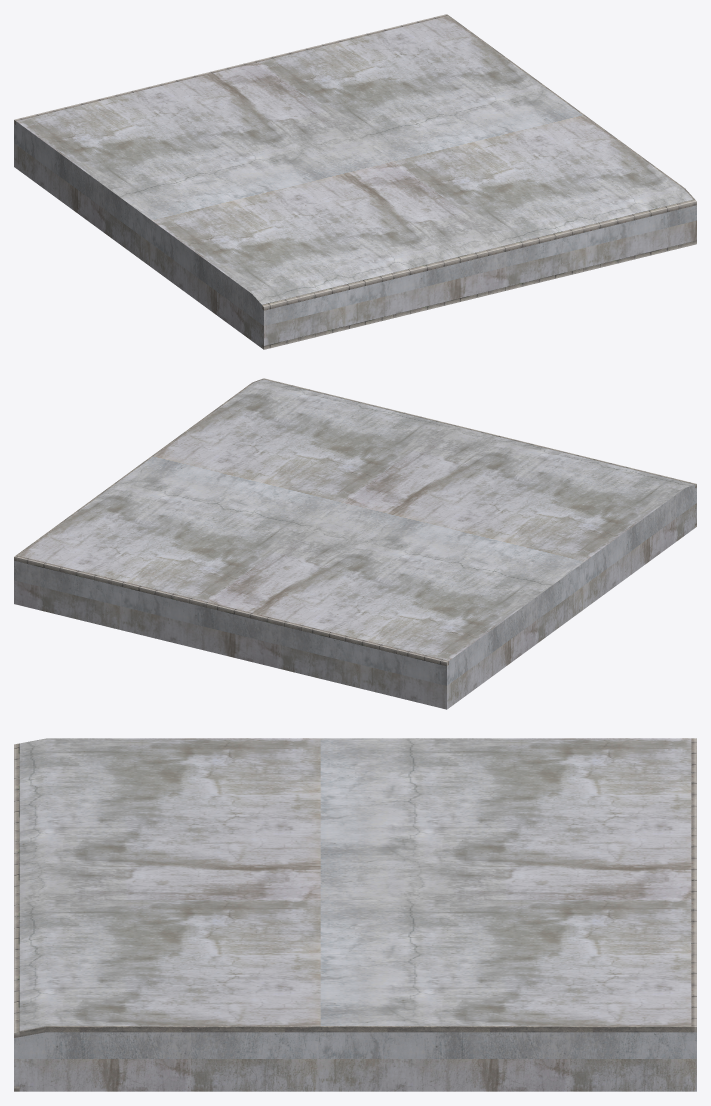
The model's file is bil_site_02_12mx12m.fbx.
The picture shows the model from 3 angles, top to bottom: view 1: azimuth 30°, elevation 25°; view 2: azimuth 150°, elevation 25°; view 3: azimuth 270°, elevation 25°; orthographic projection. The views are drawn at different scales.
Parts seen in each view (by area): view 1: bil_site_02_12mx12m; view 2: bil_site_02_12mx12m; view 3: bil_site_02_12mx12m.
Part boxes in pixels (bbox=[...]): bil_site_02_12mx12m: bbox=[14, 14, 696, 349]; bil_site_02_12mx12m: bbox=[14, 378, 696, 709]; bil_site_02_12mx12m: bbox=[14, 738, 696, 1091].
Bounding box in the file's own units: 1200 × 125 × 1200.
